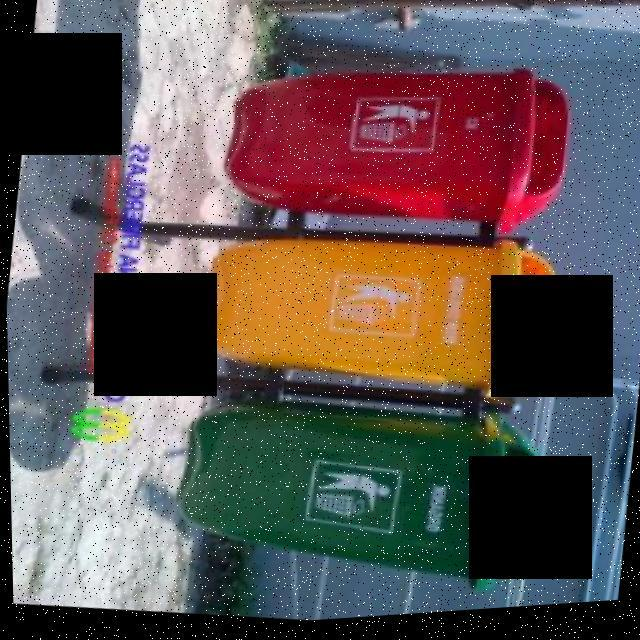bin: (144, 369, 561, 629), (192, 22, 595, 267), (182, 196, 578, 435)
